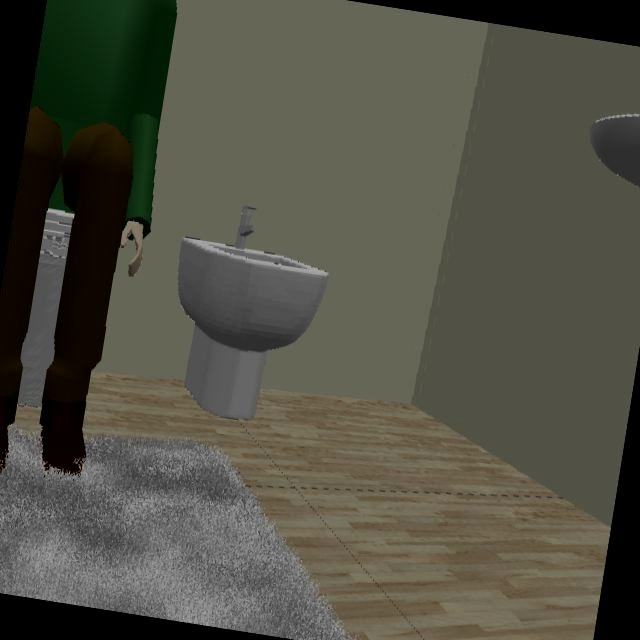toilet: (19, 211, 75, 408)
washbasin: (178, 238, 330, 421), (588, 116, 640, 189)
